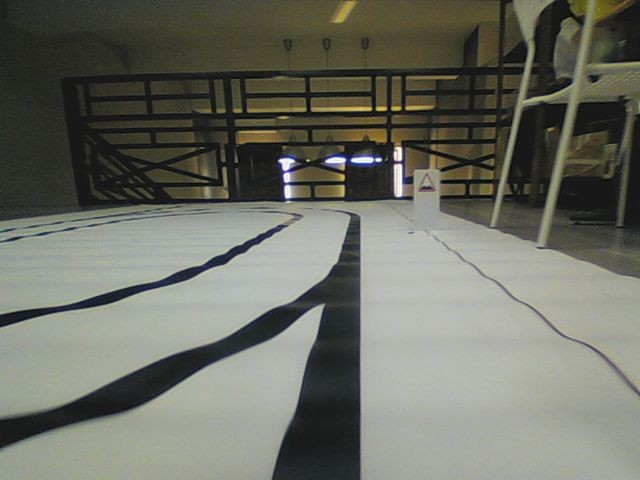Nerov: (415, 170, 437, 192)
